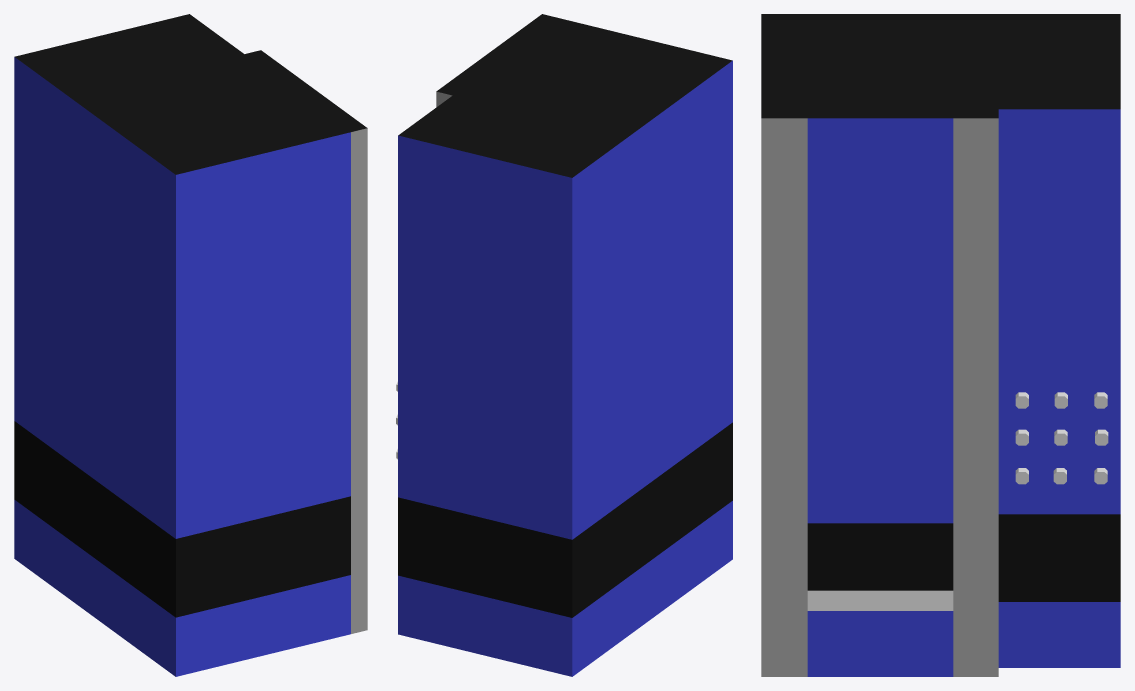
File: Automat.fbx
3 renders of one model, left to right at view 1: azimuth 30°, elevation 25°; view 2: azimuth 150°, elevation 25°; view 3: azimuth 270°, elevation 25°, orthographic. The views are drawn at different scales.
Visible parts, largest first — view 1: Cube; view 2: Cube; view 3: Cube.
Boxes of the visible parts, x1,y1,x2,y2 form: Cube: (14, 14, 367, 676); Cube: (398, 14, 732, 676); Cube: (761, 14, 1120, 676).
Bounding box in the file's own units: 272 × 679 × 396.
